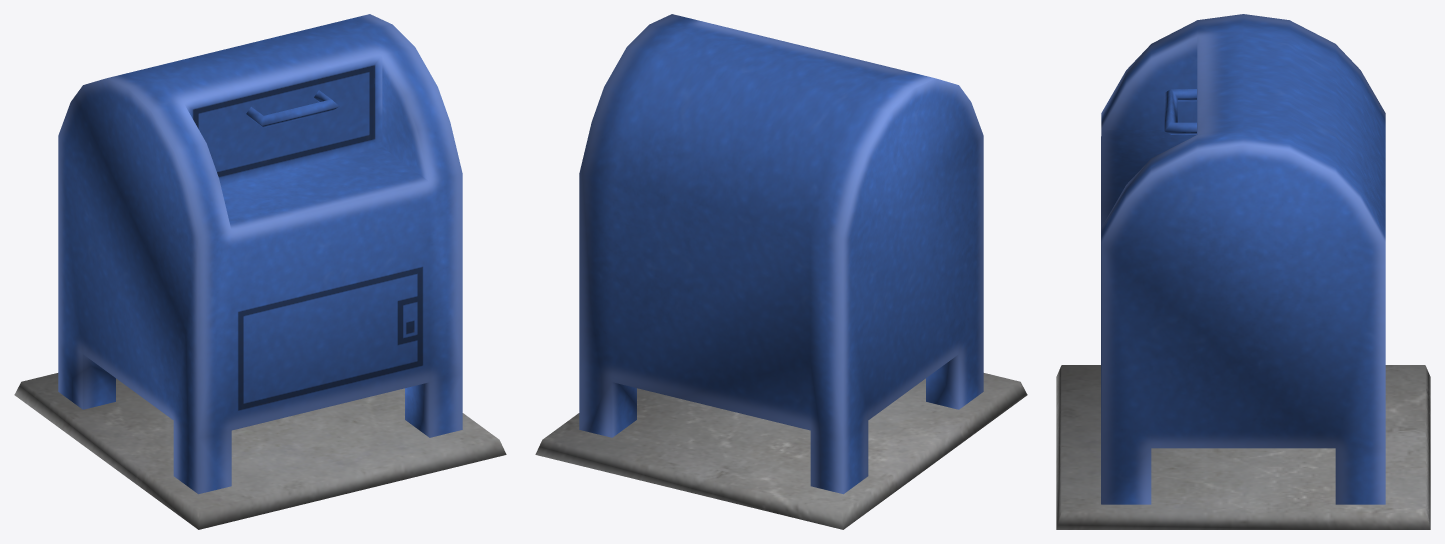
The model's file is sb_obj_ModernCity101_post_b.fbx.
3 views of the same model, side by side, from view 1: azimuth 30°, elevation 25°; view 2: azimuth 150°, elevation 25°; view 3: azimuth 270°, elevation 25° (orthographic).
Parts seen in each view (by area): view 1: sb_obj_ModernCity101_post_b; view 2: sb_obj_ModernCity101_post_b; view 3: sb_obj_ModernCity101_post_b.
Part boxes in pixels (x1,y1,x2,y2): sb_obj_ModernCity101_post_b: (14,14,506,529); sb_obj_ModernCity101_post_b: (535,14,1027,529); sb_obj_ModernCity101_post_b: (1056,14,1430,529).
Bounding box in the file's own units: 0.8545 × 0.9761 × 0.8855.
